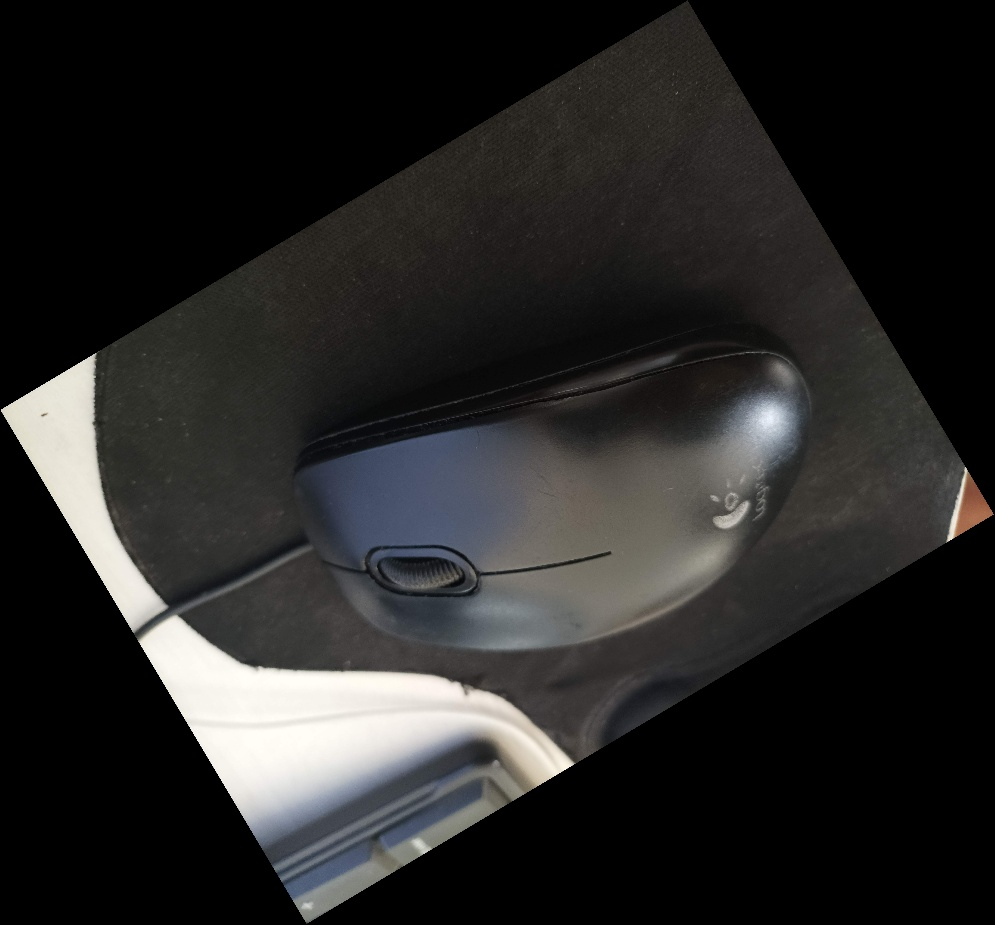mouse: (282, 313, 820, 658)
